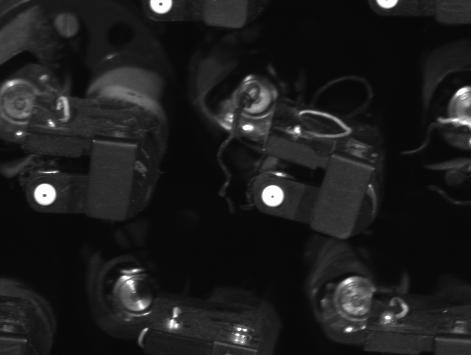fiber: (256, 180, 290, 216), (31, 180, 60, 211), (146, 1, 185, 17)
